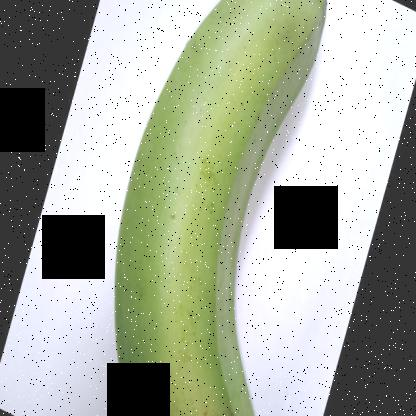freshunripe: (100, 0, 339, 415)
